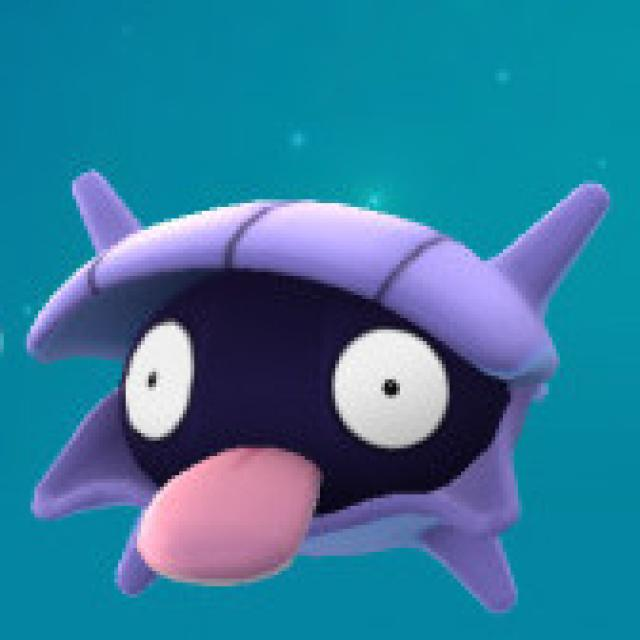Shellder: (37, 177, 594, 594)
